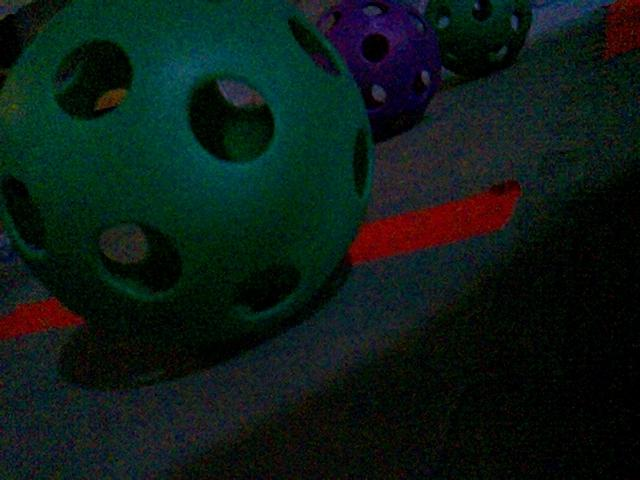Green: (0, 0, 373, 368), (425, 0, 531, 79)
Purple: (310, 0, 443, 144)
